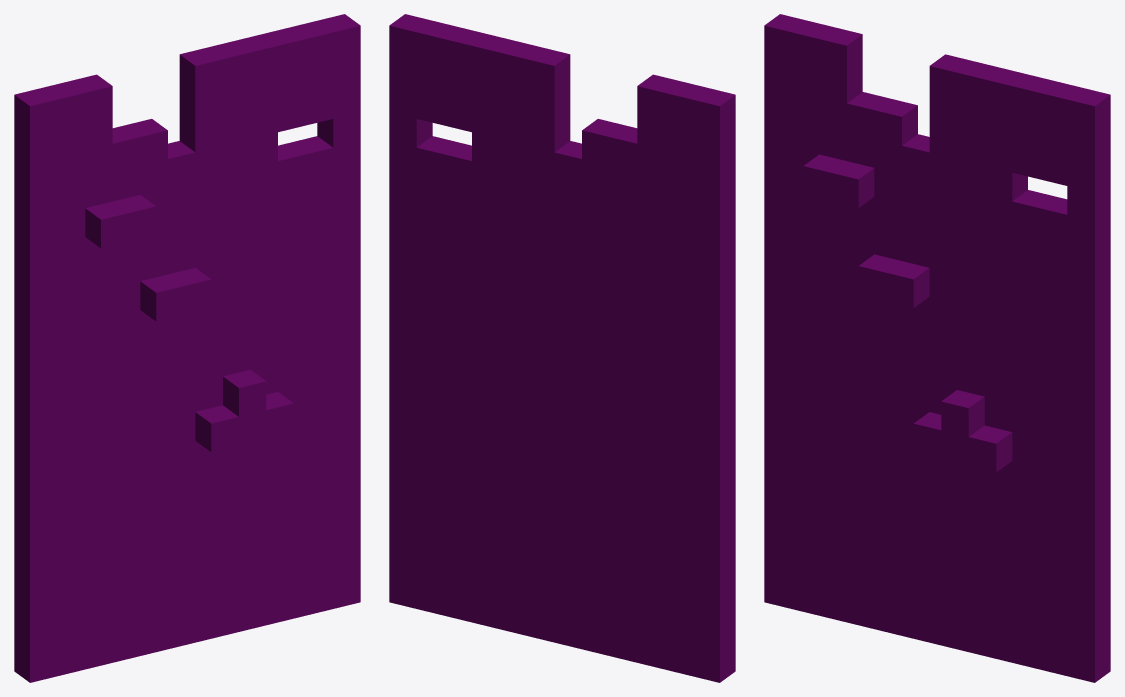
The model's file is wall1.obj.
3 renders of one model, left to right at view 1: azimuth 30°, elevation 25°; view 2: azimuth 150°, elevation 25°; view 3: azimuth 330°, elevation 25°, orthographic.
Size of the model in its own units: 1.2 by 2 by 0.2.
1 material, 1 textured.
